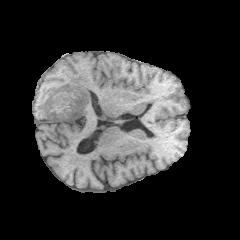glioma: (37, 72, 96, 121)
